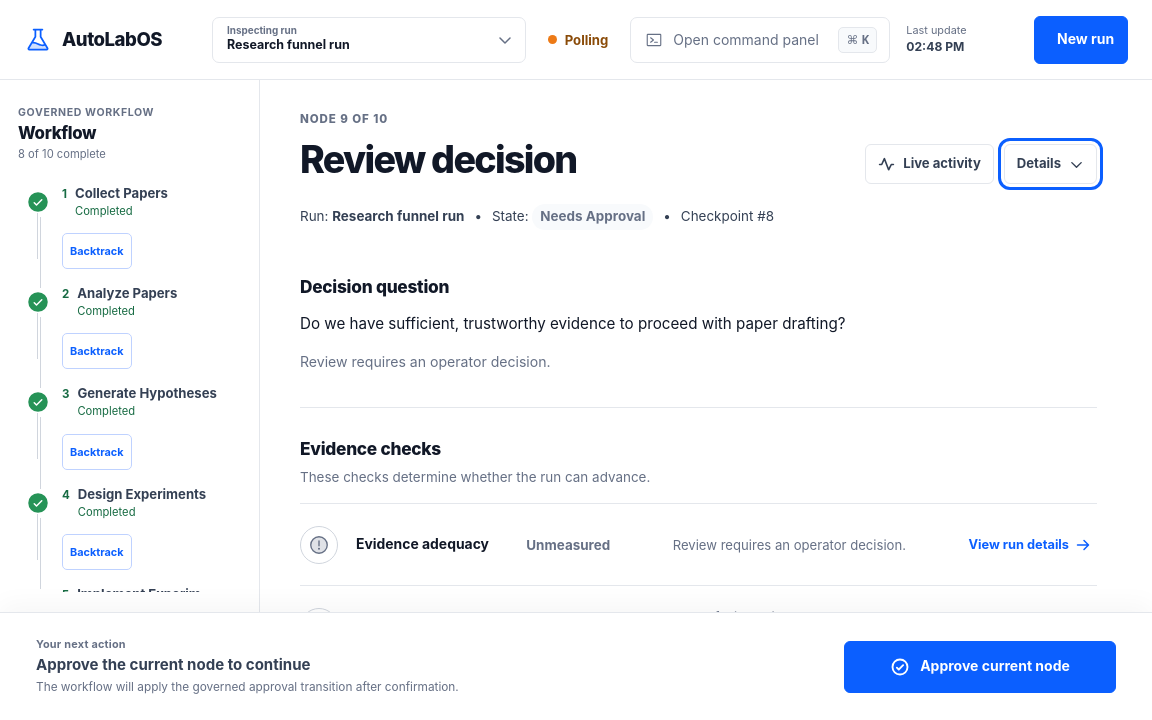
Scenario: App › keeps reviewed post-probe state above the historical authorization state
Click the button "Details". click: (1050, 164)
box: [1004, 144, 1097, 184]
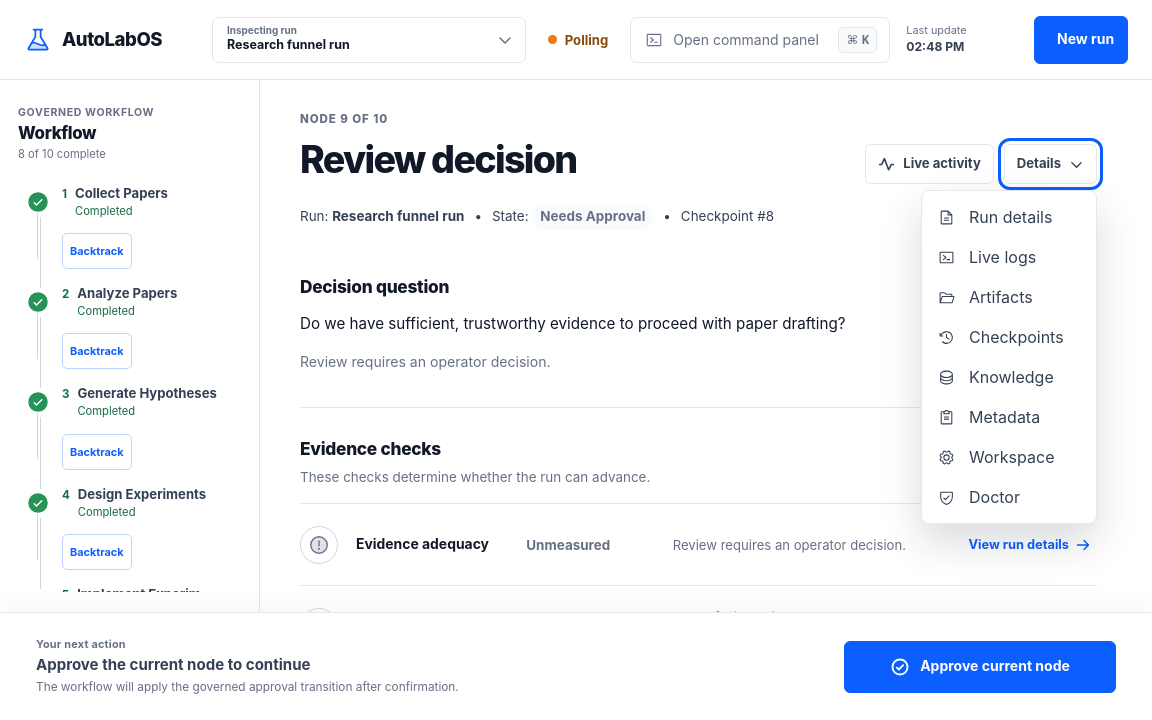
Click the button "Run details". click: (1009, 217)
box: [928, 197, 1090, 237]
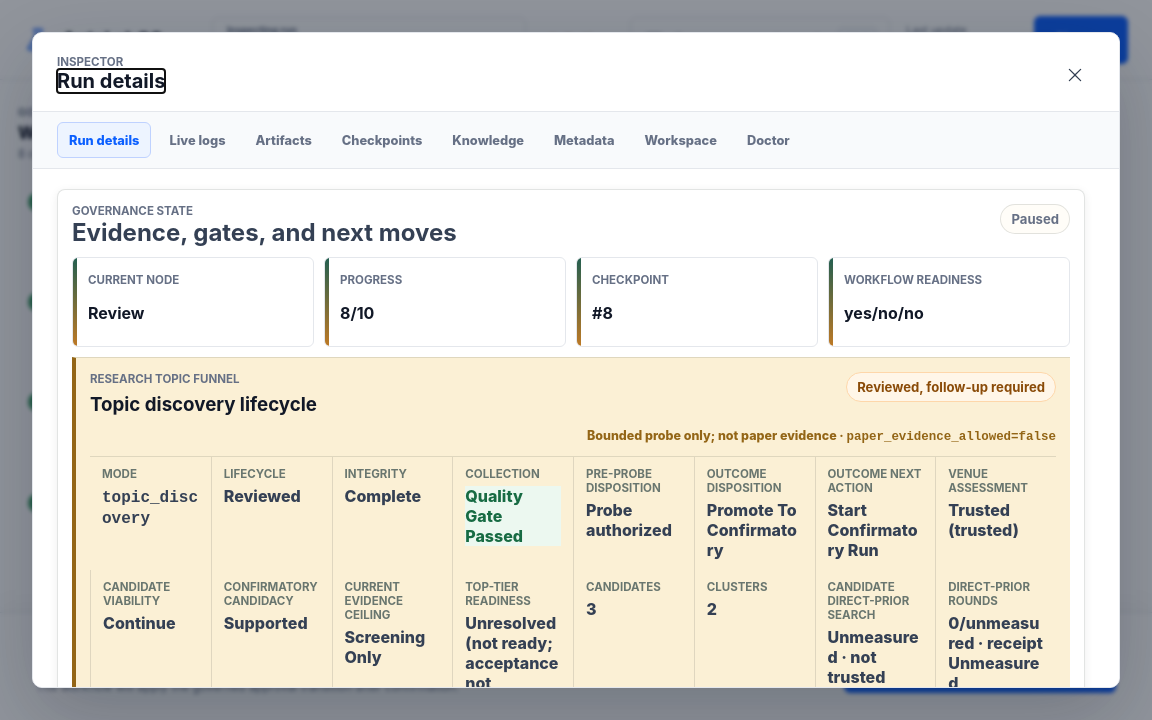
Check: the text with class "status-pill" reads "Reviewed, follow-up required", box [857, 379, 1045, 395]
Check: the text "Promote To Confirmatory" is shown, box [707, 500, 803, 560]
Check: the text "Start Confirmatory Run" is shown, box [828, 500, 923, 560]
